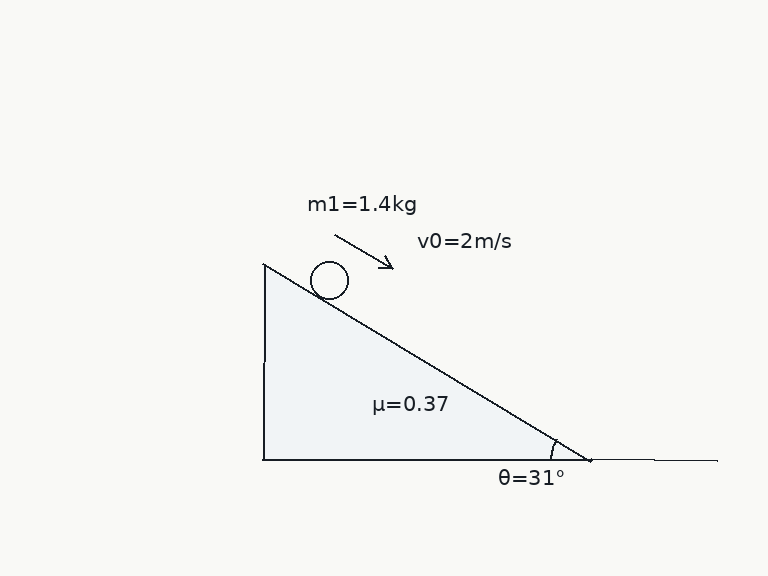ball: (308, 259, 350, 301)
ramp: (262, 261, 593, 462)
